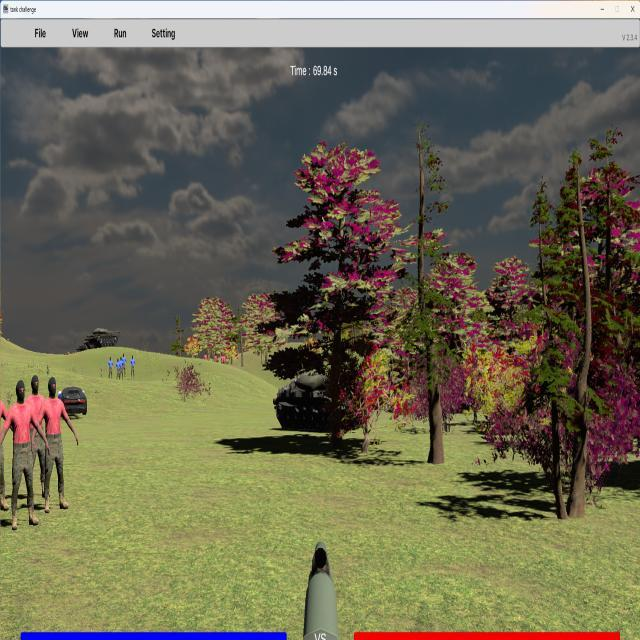Human: (0, 379, 48, 527), (35, 377, 79, 514), (13, 376, 53, 514), (12, 374, 55, 494)
Tank: (273, 369, 367, 433), (81, 327, 121, 350)
car: (59, 385, 88, 416)
